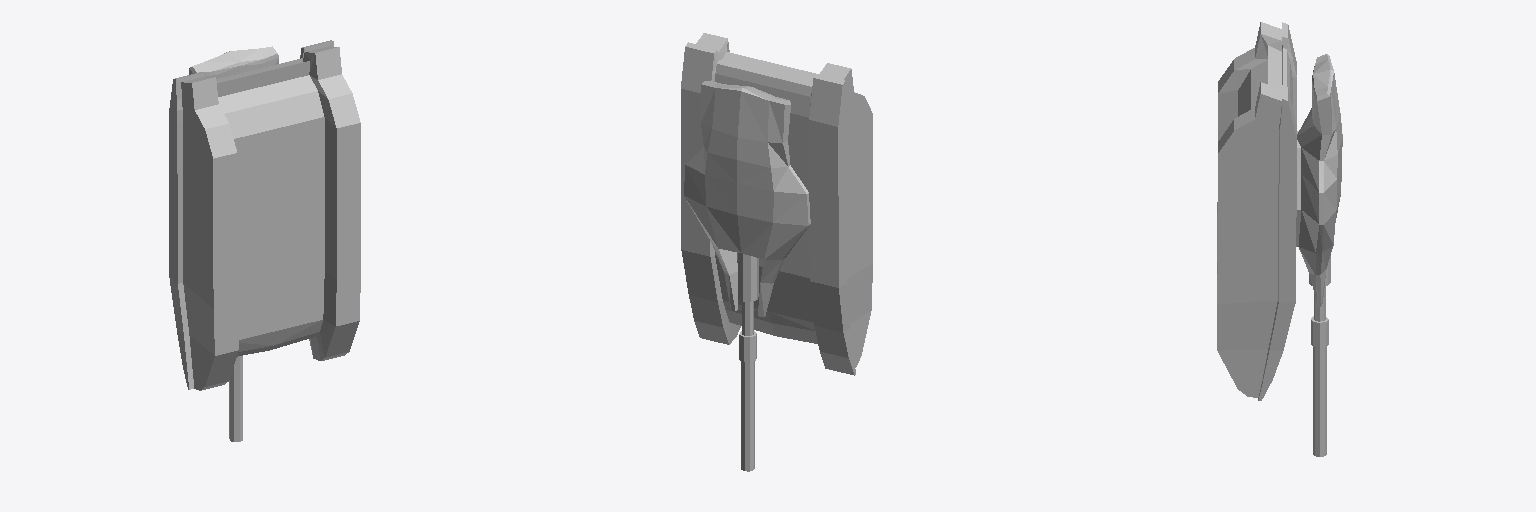
File: tank.obj
The picture shows the model from 3 angles: view 1: azimuth 30°, elevation 25°; view 2: azimuth 150°, elevation 25°; view 3: azimuth 270°, elevation 25°; orthographic projection.
Parts seen in each view (by area): view 1: Group1, Group; view 2: Group1, Group; view 3: Group1, Group.
Part boxes in pixels (x1,y1,x2,y2): Group1: (169, 40, 360, 390); Group: (189, 46, 278, 441); Group1: (681, 33, 872, 375); Group: (684, 81, 810, 471); Group1: (1217, 22, 1296, 400); Group: (1296, 54, 1342, 456).
Bounding box in the file's own units: 4.04 × 9.72 × 2.79.